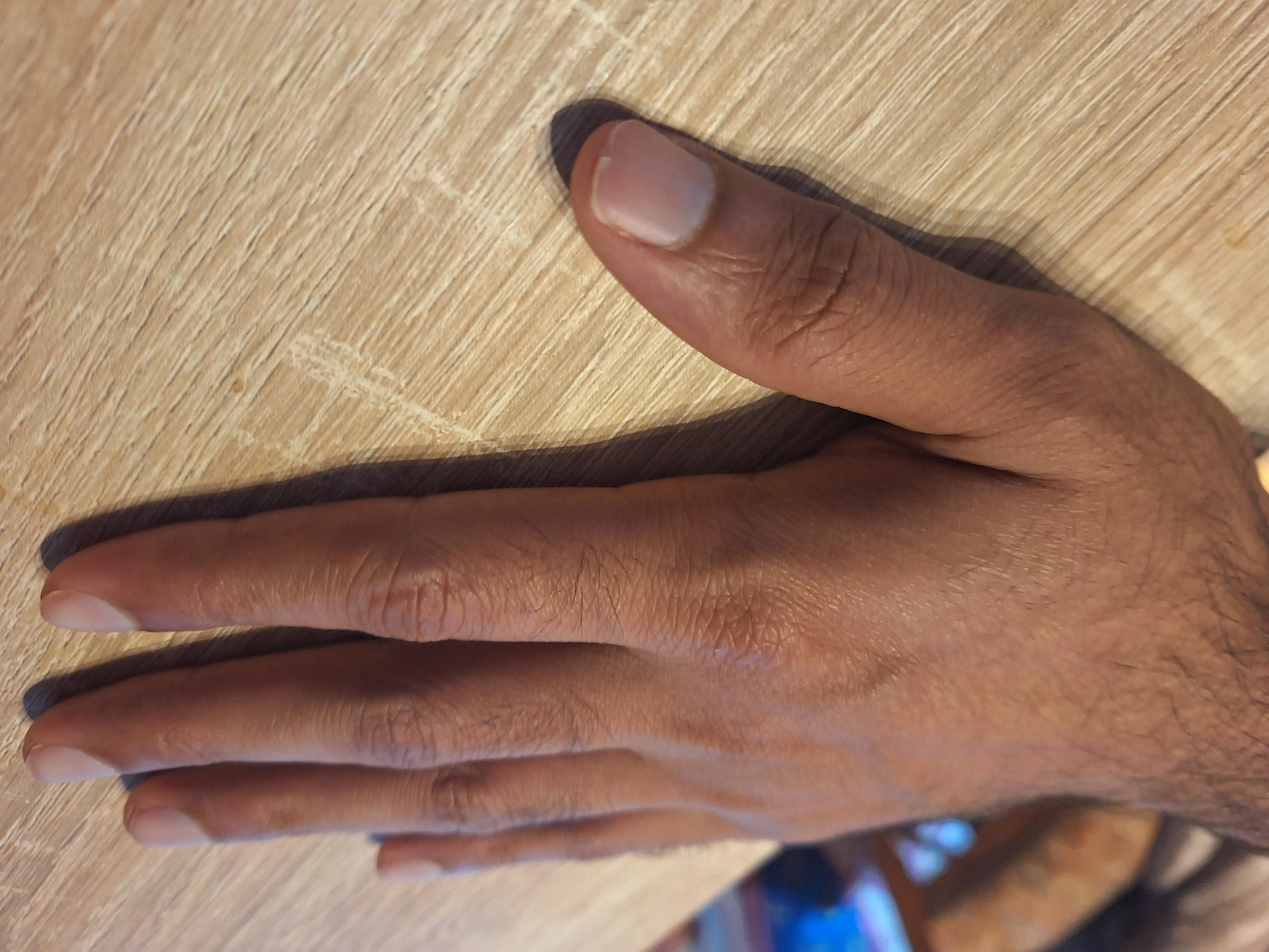Fingernail: (593, 120, 714, 252), (41, 590, 134, 632), (27, 745, 116, 784), (132, 806, 210, 847), (384, 862, 439, 882)
